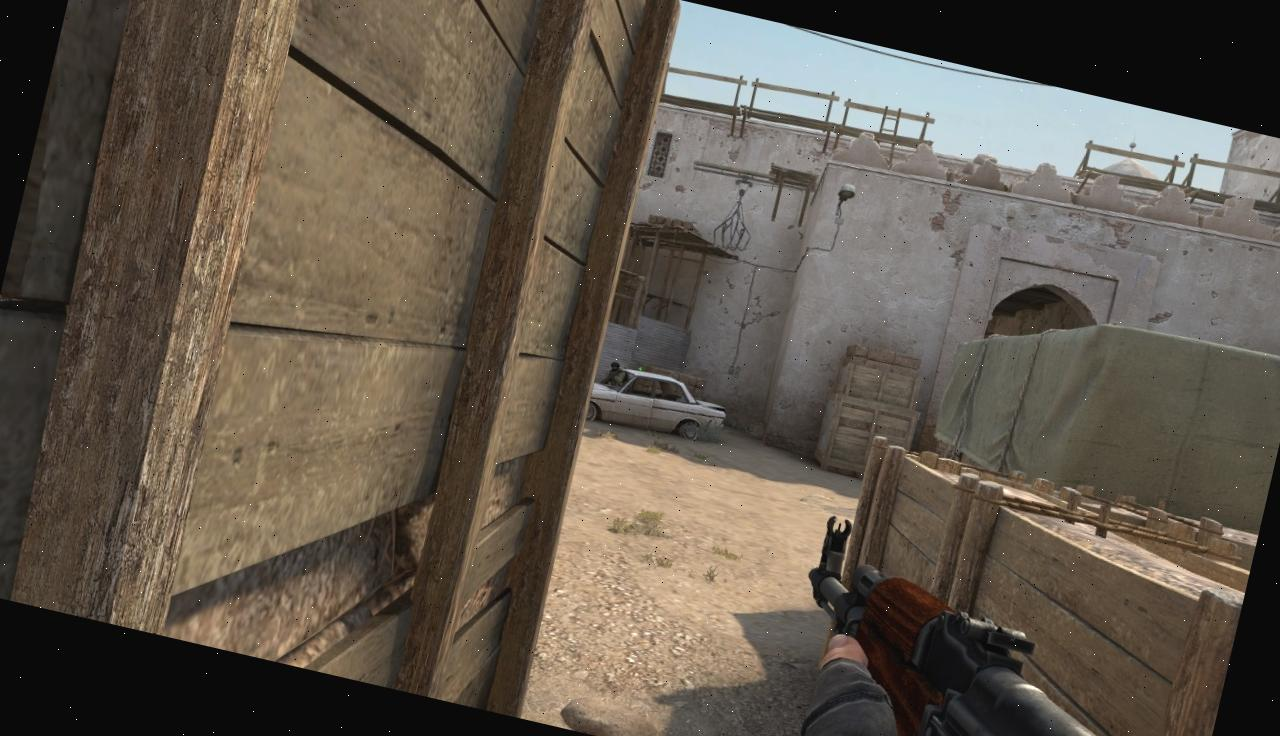ct: (605, 360, 627, 385)
cthead: (610, 362, 620, 371)
rifle: (764, 512, 1241, 736)
